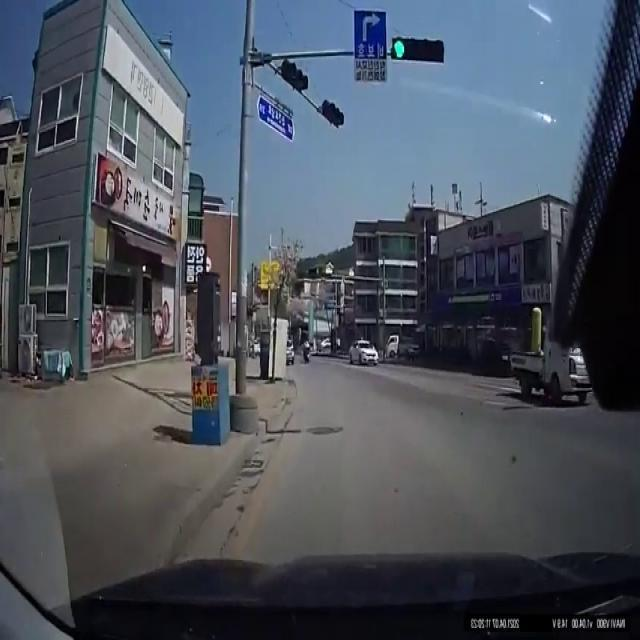pothole: (303, 423, 338, 439)
